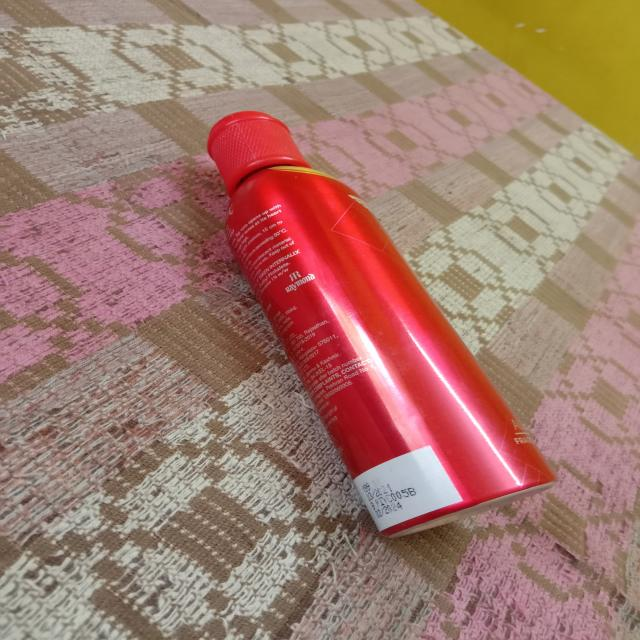deodorant: (180, 92, 554, 525)
